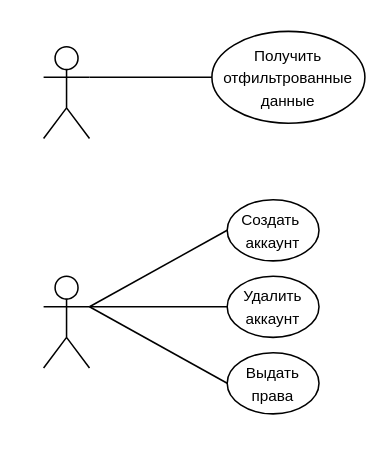
The diagram is 392 pixels wide and 450 high, and some of its shapes have lost their labels. The box of each missing label's shape, as (x1, y1, x2, y2) in pixels:
Админ: (42, 275, 90, 368)
Аналитик: (42, 45, 90, 138)
